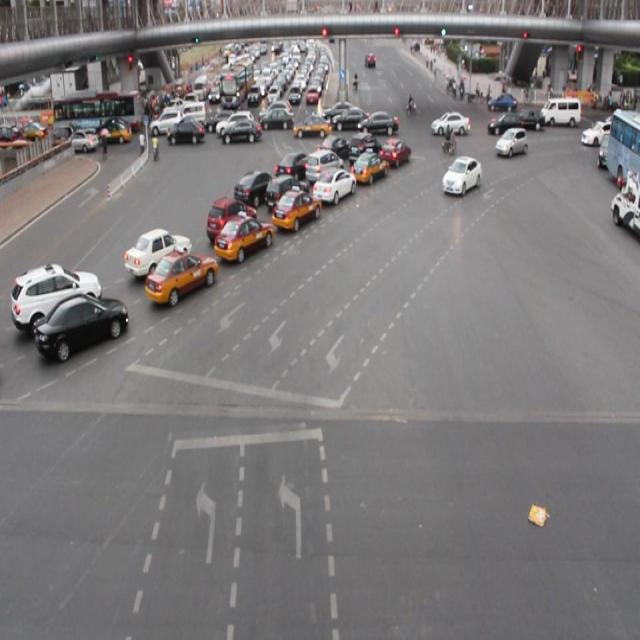car: (14, 261, 102, 330), (37, 294, 128, 354), (145, 250, 215, 301), (126, 228, 191, 275), (214, 215, 272, 263), (205, 194, 258, 244), (269, 190, 320, 230), (264, 172, 308, 213), (440, 154, 481, 193), (313, 167, 356, 202), (234, 169, 273, 204), (351, 149, 387, 182), (275, 153, 313, 184), (379, 138, 410, 170), (347, 132, 378, 164), (315, 136, 348, 163), (494, 128, 526, 155)
truck: (304, 149, 343, 186)
